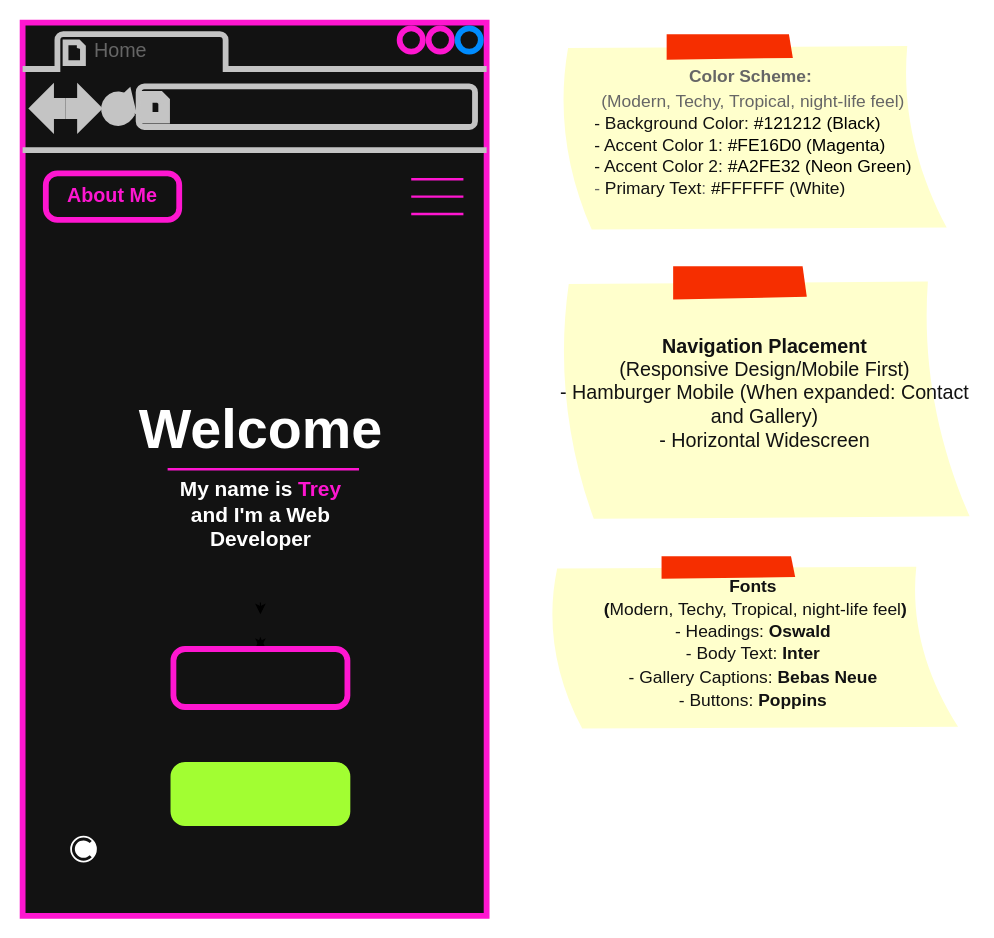
The diagram is 994 pixels wide and 938 high, and some of its shapes have lost their labels. The shapes that lost their labels are listed below. From the top down, each one's centre as x and y in pixels, then its label:
(x=317, y=106): https://www.draw.io
(x=260, y=677): GitHub
(x=260, y=793): LinkedIn
